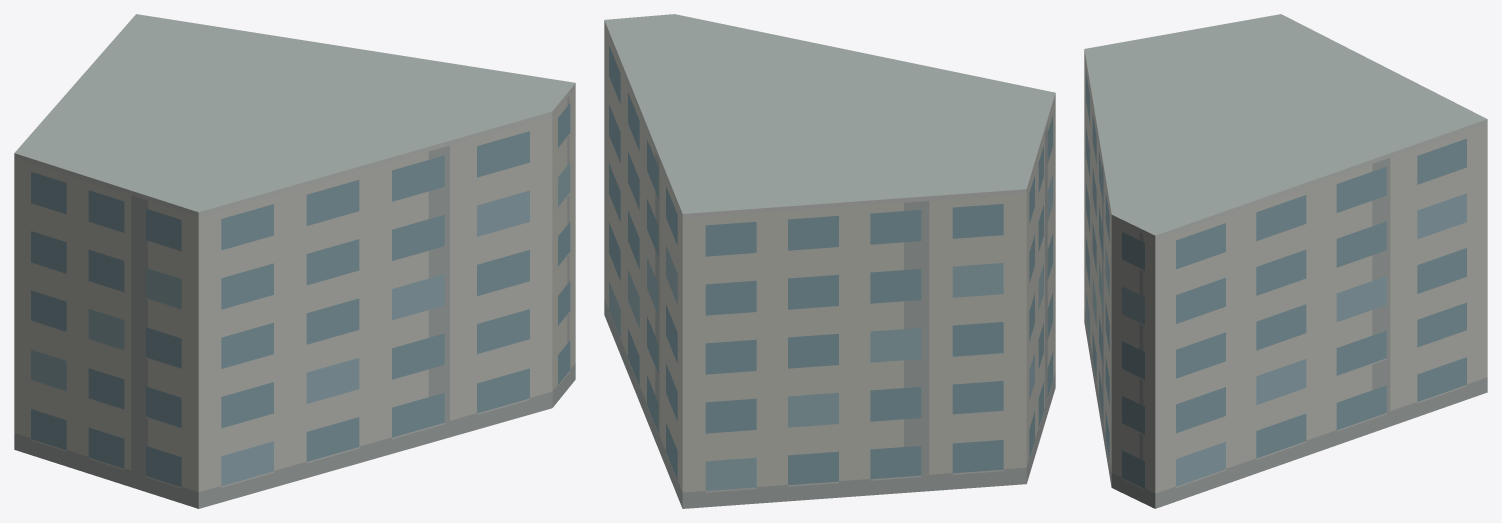
The model's file is residential-f29bce44-0971-4d37-b199-537db86358ed.glb.
The picture shows the model from 3 angles, left to right: view 1: azimuth 30°, elevation 25°; view 2: azimuth 150°, elevation 25°; view 3: azimuth 270°, elevation 25°; orthographic projection. The views are drawn at different scales.
Parts seen in each view (by area): view 1: residential-f29bce44-0971-4d37-b199-537db86358ed.tmp; view 2: residential-f29bce44-0971-4d37-b199-537db86358ed.tmp; view 3: residential-f29bce44-0971-4d37-b199-537db86358ed.tmp.
Part boxes in pixels (x1,y1,x2,y2): residential-f29bce44-0971-4d37-b199-537db86358ed.tmp: (14,14,575,508); residential-f29bce44-0971-4d37-b199-537db86358ed.tmp: (604,14,1055,508); residential-f29bce44-0971-4d37-b199-537db86358ed.tmp: (1084,14,1487,508).
Size of the model in its own units: 26.54 by 15.25 by 20.4.
